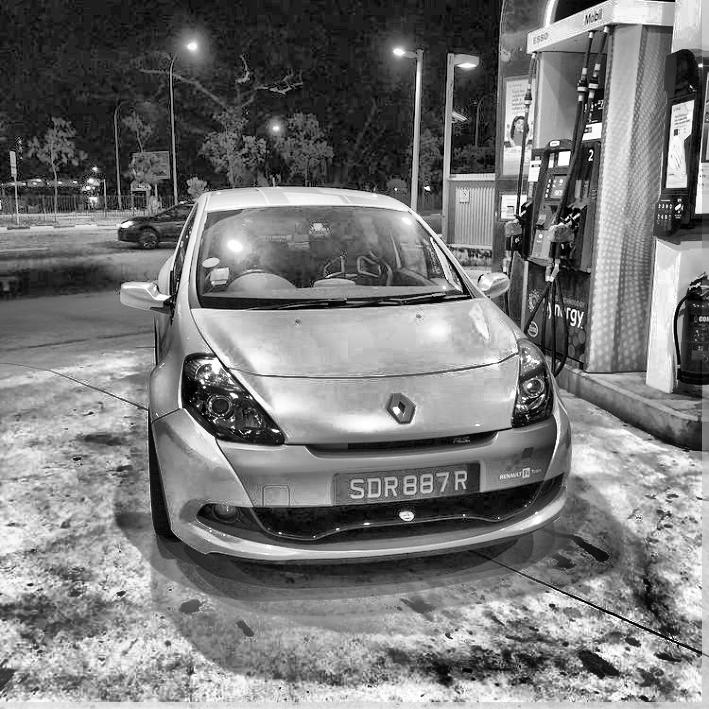License-Plates: (336, 463, 478, 504)
